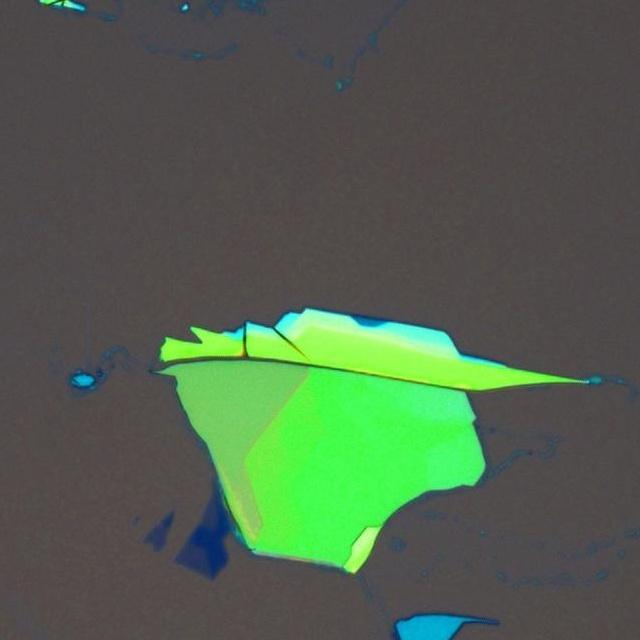monolayer-eWW4: (171, 540, 210, 578), (143, 522, 166, 553), (200, 495, 218, 529)
